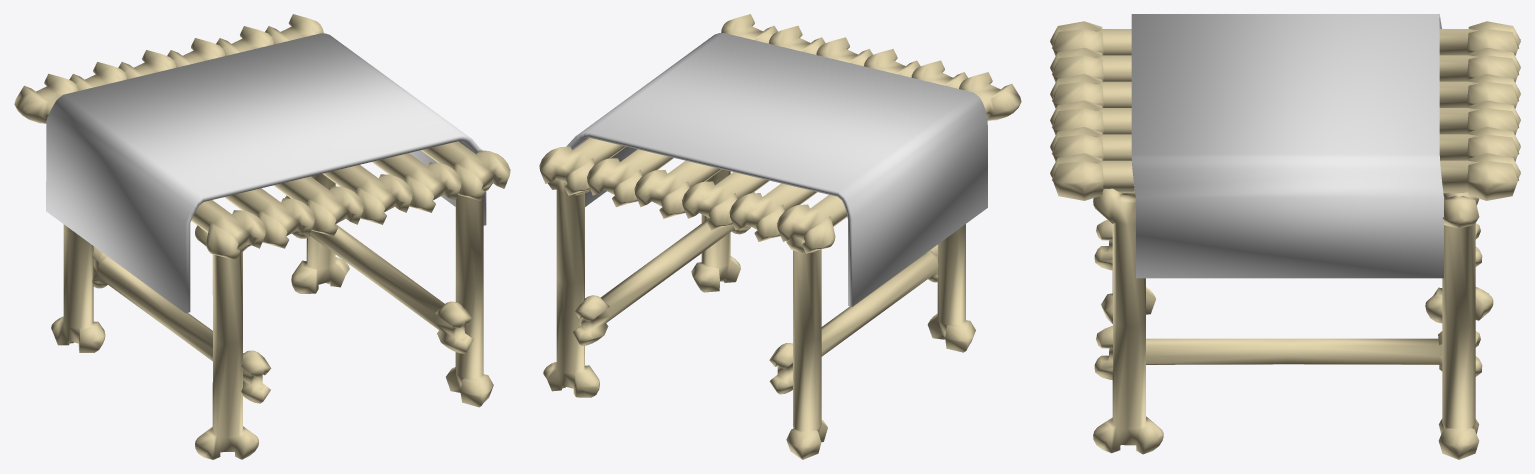
The model's file is Bones-Mesa.fbx.
3 renders of one model, left to right at view 1: azimuth 30°, elevation 25°; view 2: azimuth 150°, elevation 25°; view 3: azimuth 270°, elevation 25°, orthographic. The views are drawn at different scales.
Visible parts, largest first — view 1: Cylinder; view 2: Cylinder; view 3: Cylinder.
Part boxes in pixels (<box>): Cylinder: <box>14,14,510,459</box>; Cylinder: <box>539,14,1021,459</box>; Cylinder: <box>1050,14,1520,459</box>.
Size of the model in its own units: 336 by 274 by 397.
